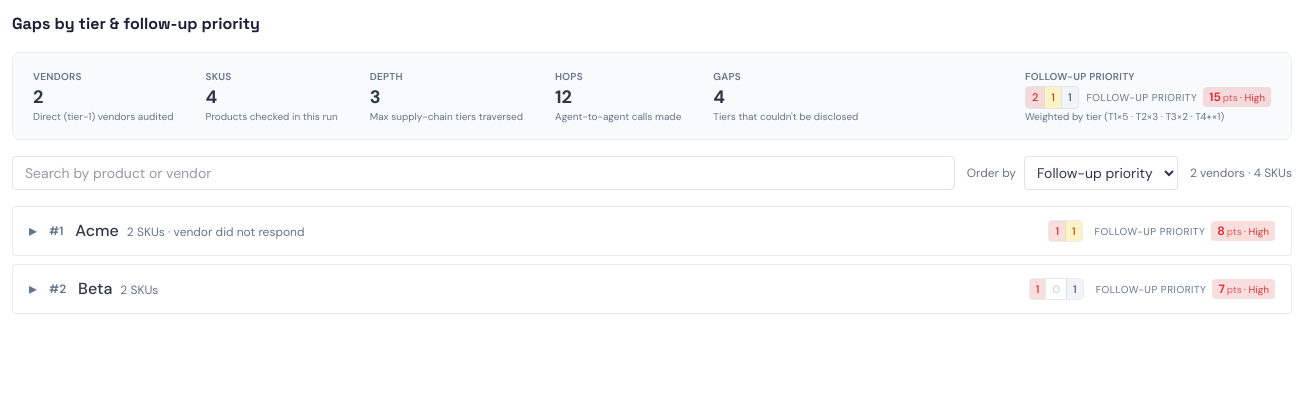
Test case: TierGapGrid › filters by the search box
Type "beta" into the field labelled "Search by product or vendor" at (483, 173), box [12,156,955,190]
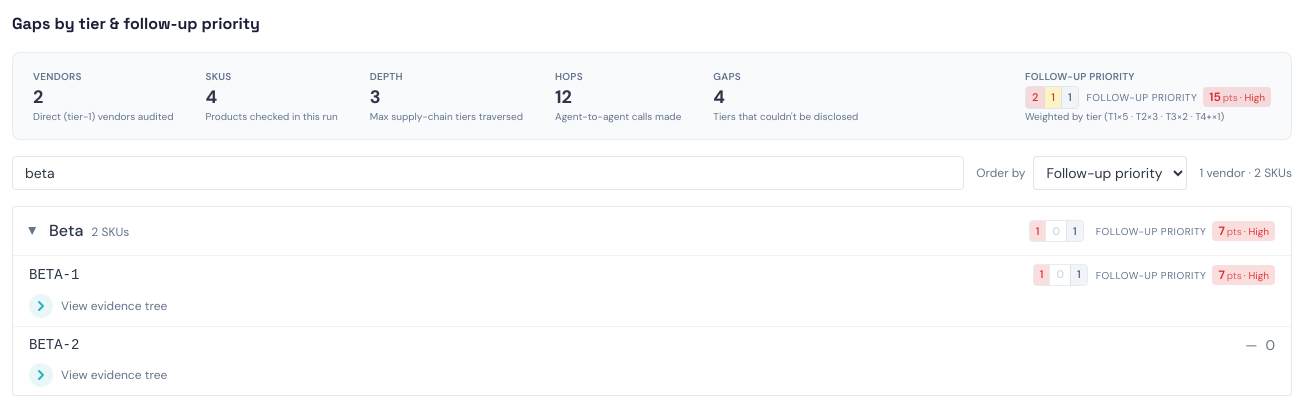
Now the text "BETA-1" is shown, box [29,265,79,285]
